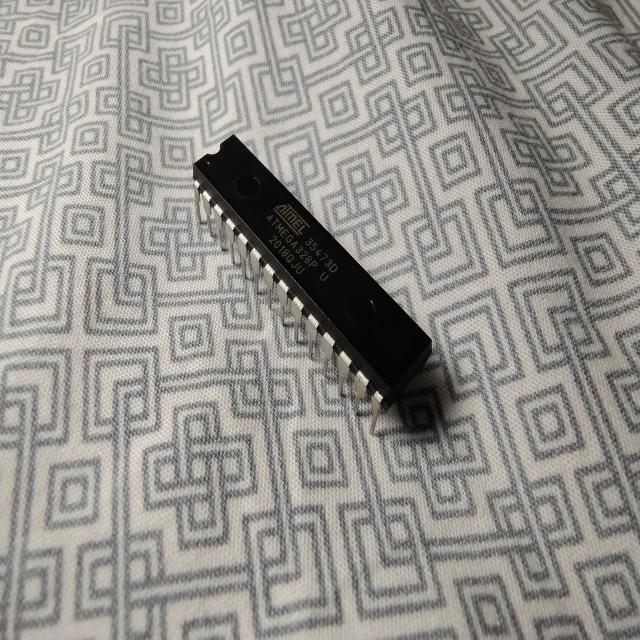atmega: (190, 131, 434, 438)
